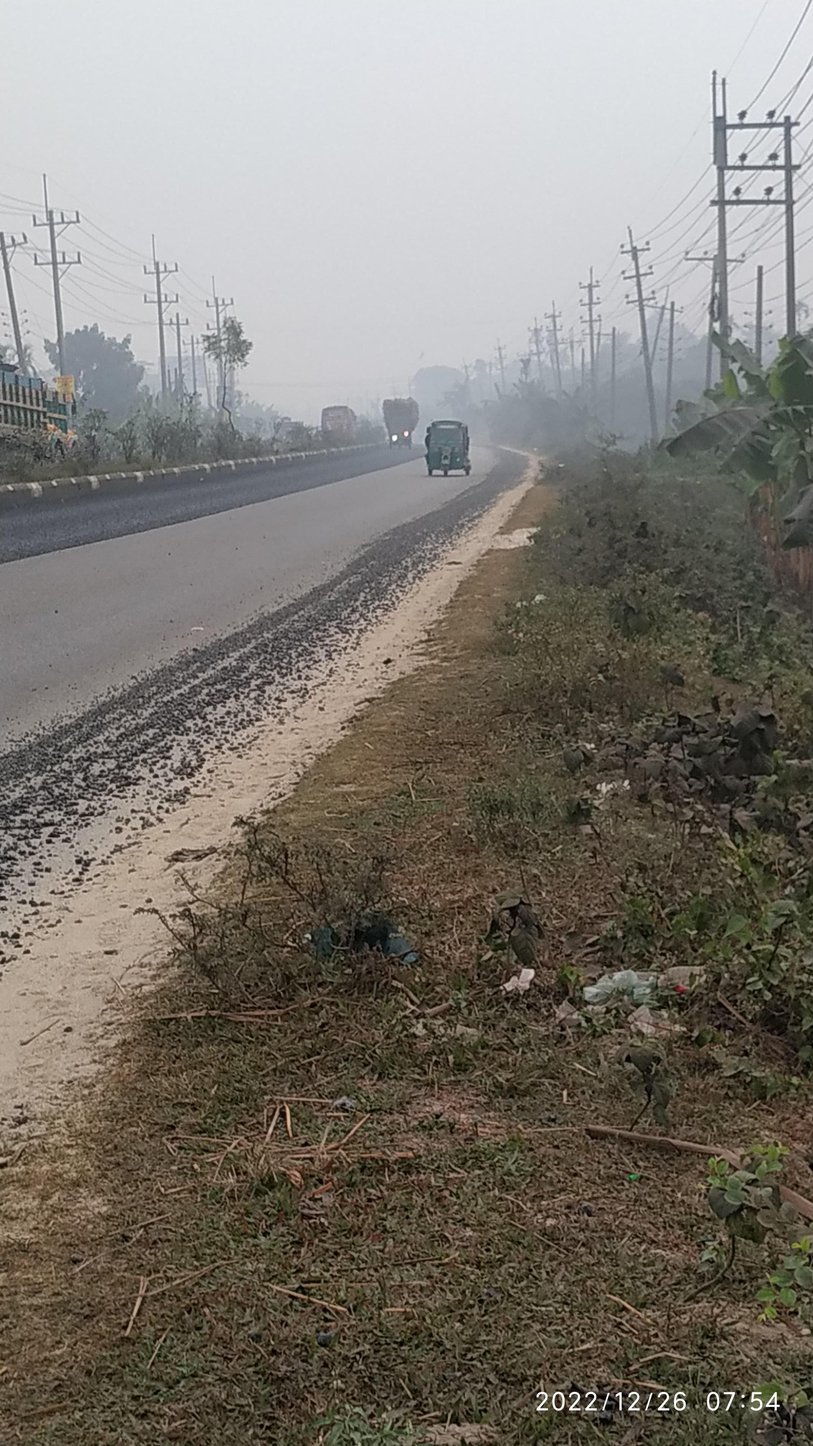Truck: (6, 336, 107, 483), (379, 389, 423, 468)
